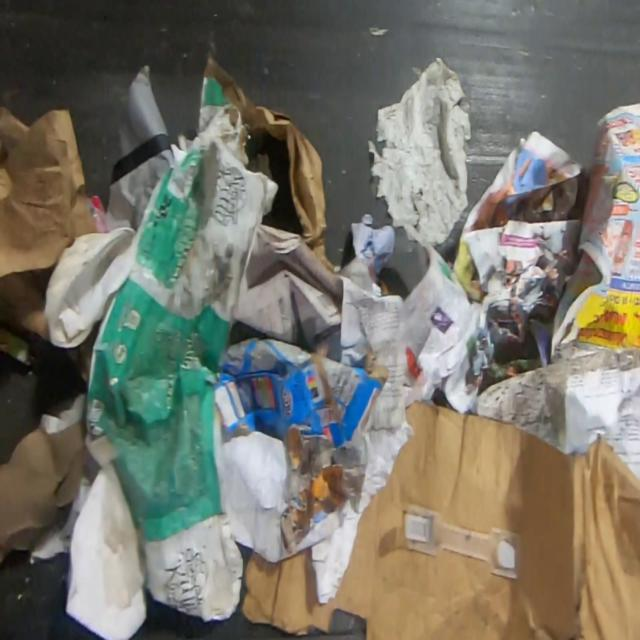cardboard: (239, 397, 640, 639), (203, 332, 388, 567), (204, 55, 338, 274), (0, 101, 97, 342), (0, 418, 82, 565), (0, 313, 32, 361)
